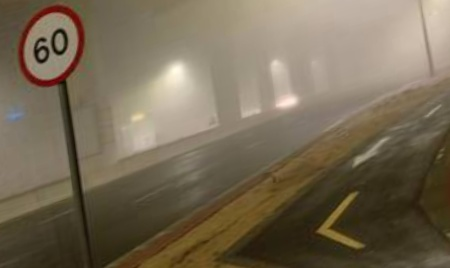Speed limit: (12, 1, 89, 89)
